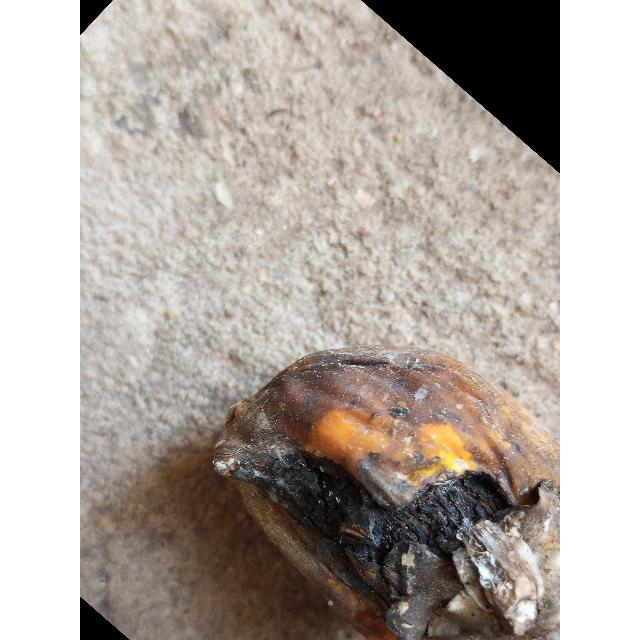damaged: (213, 348, 560, 640)
